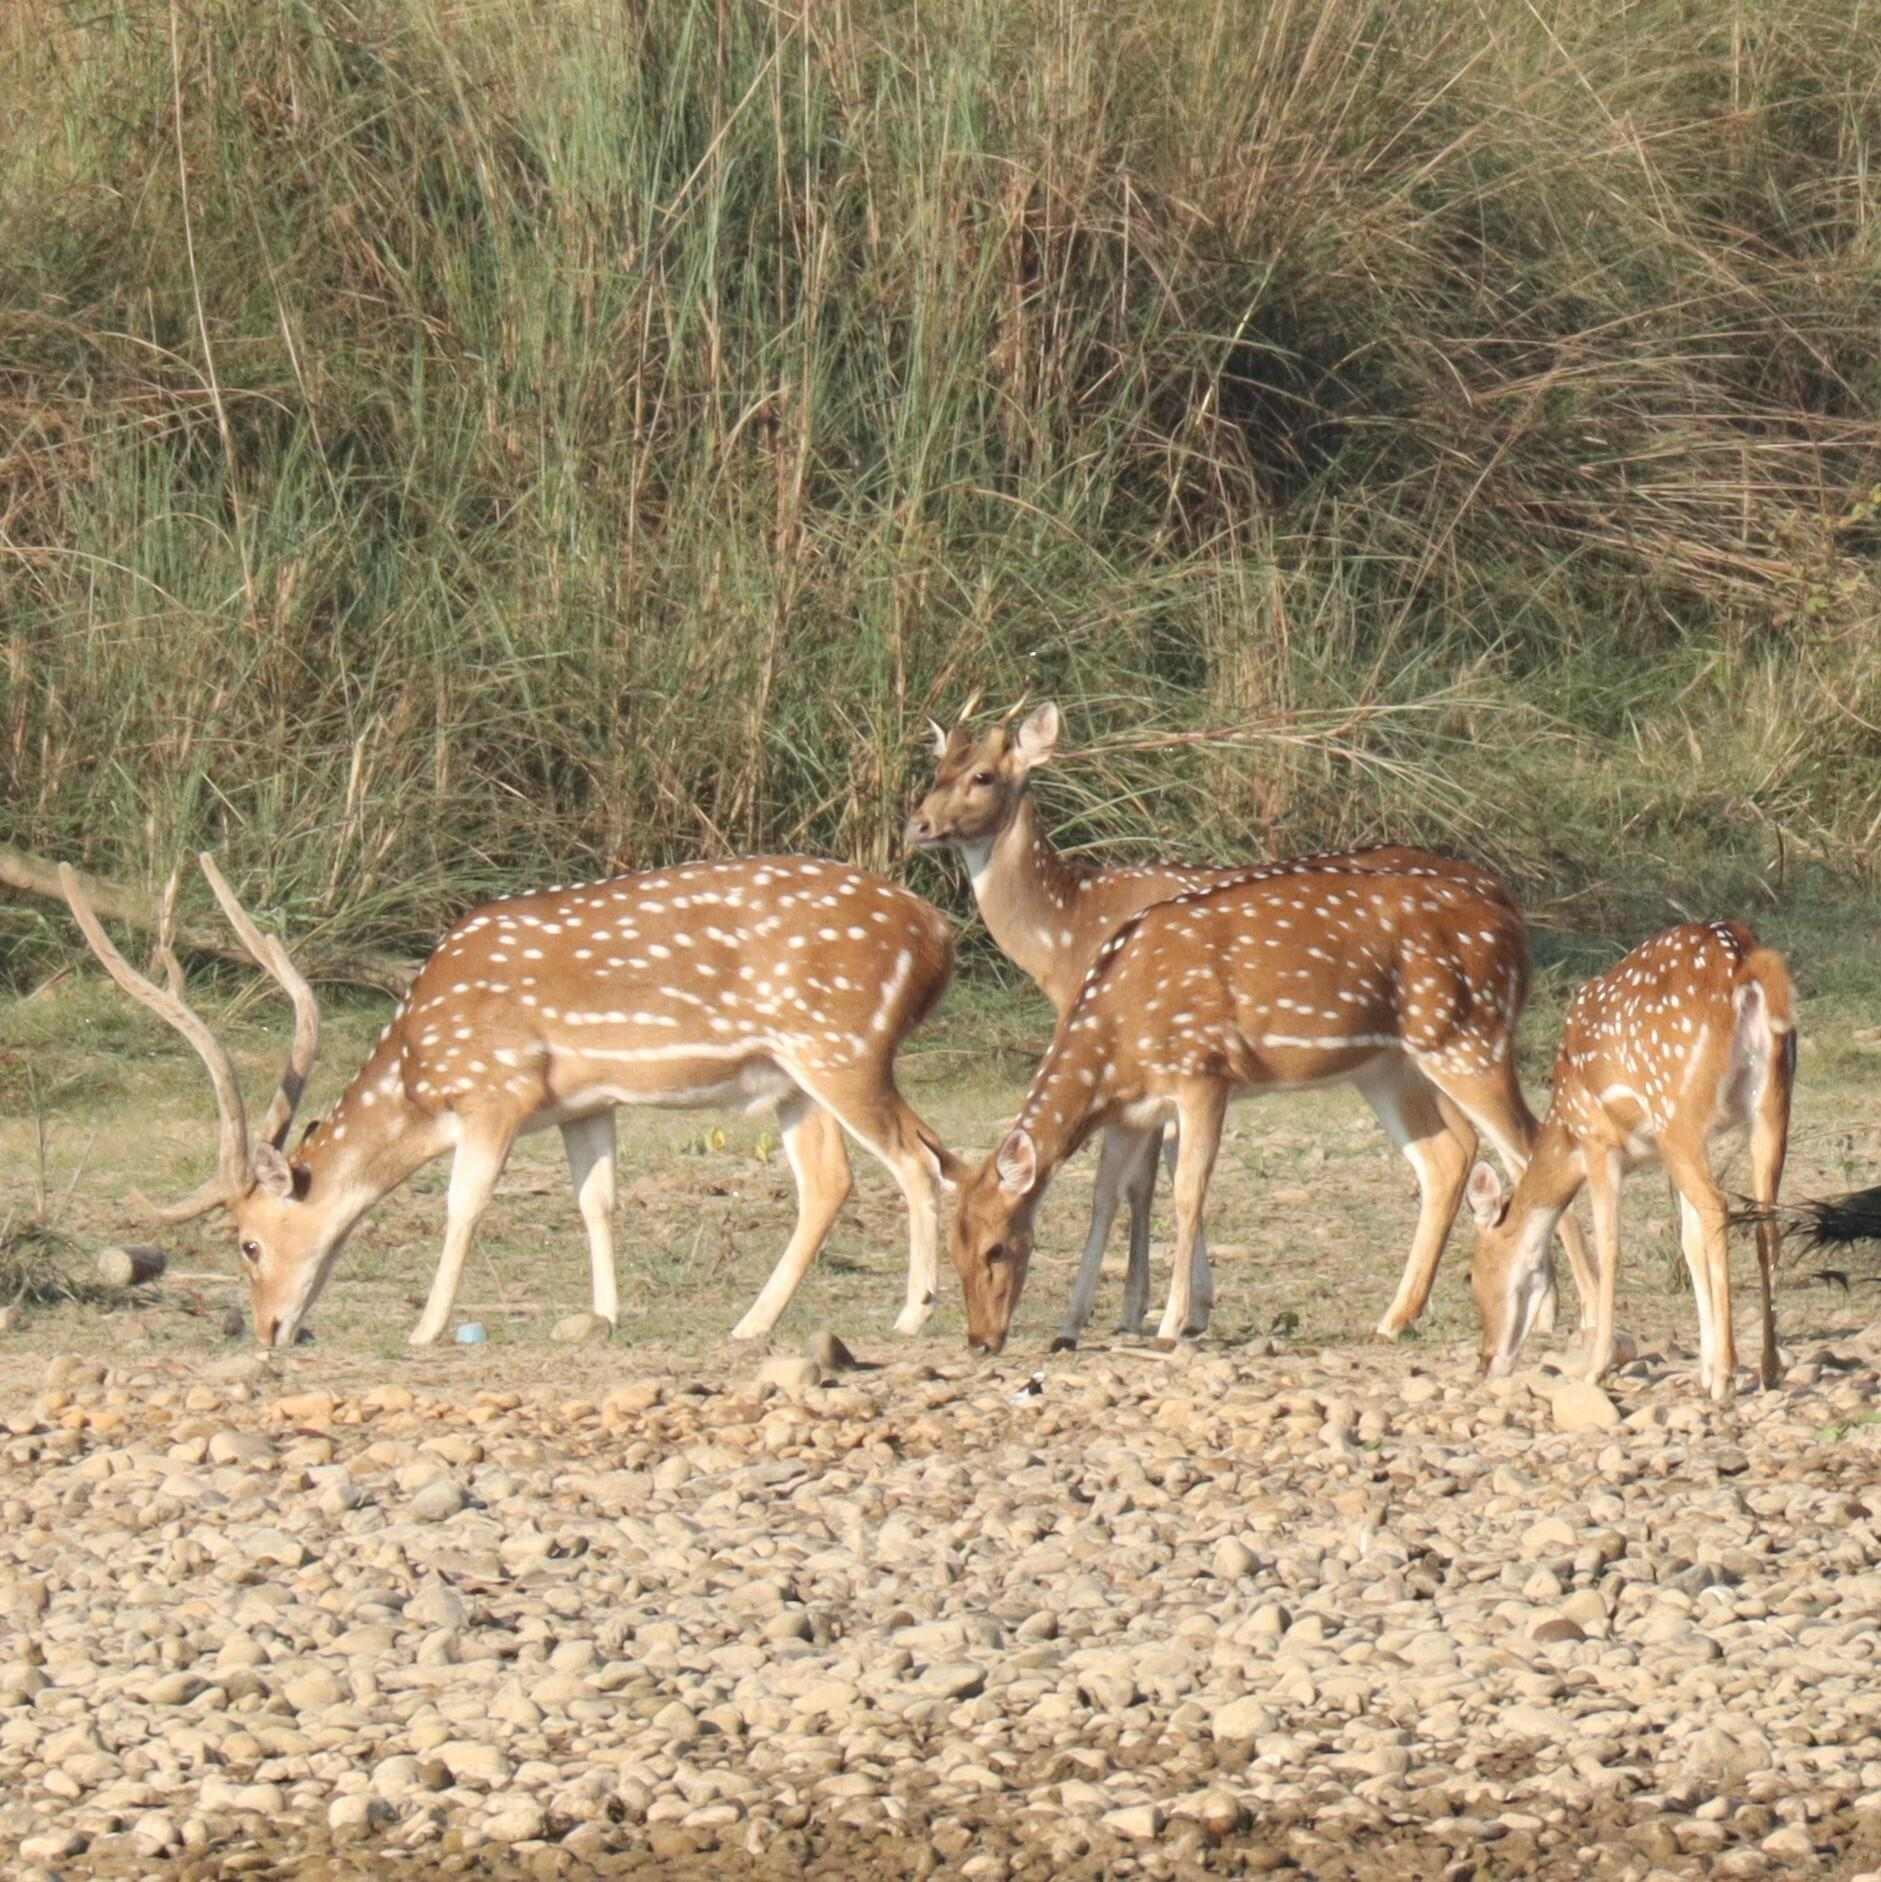Deer: (59, 856, 972, 1345), (916, 847, 1535, 1352), (1468, 921, 1797, 1400), (904, 694, 1233, 1012)
